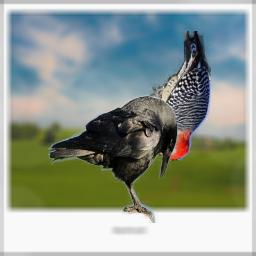Crow: (48, 95, 178, 223)
Woodpecker: (138, 31, 211, 161)
